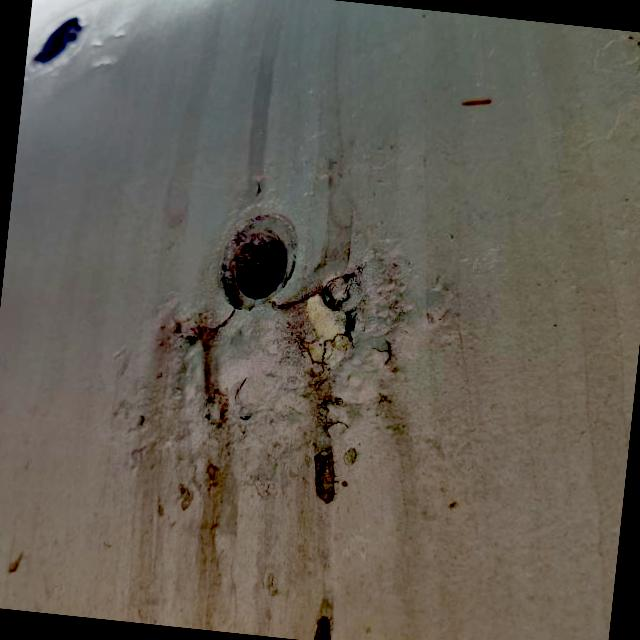crack: (266, 258, 390, 382)
